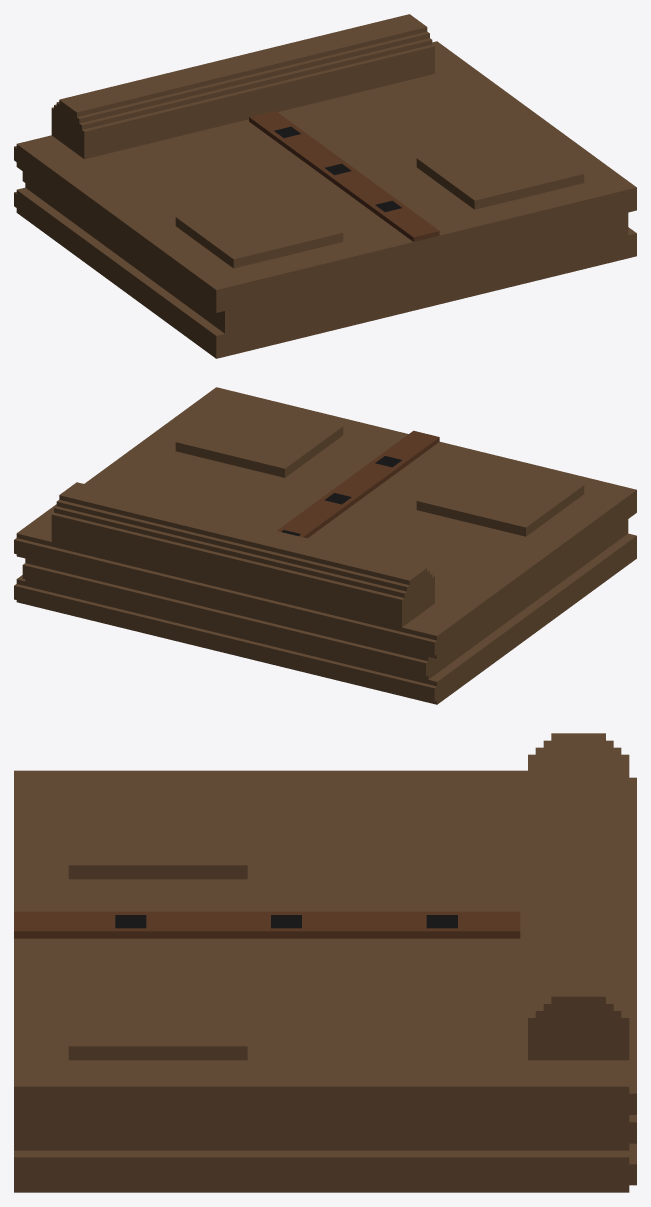
The model's file is coat_fur.glb.
The picture shows the model from 3 angles, top to bottom: view 1: azimuth 30°, elevation 25°; view 2: azimuth 150°, elevation 25°; view 3: azimuth 270°, elevation 25°; orthographic projection. The views are drawn at different scales.
Visible parts, largest first — view 1: coat_fur:compound; view 2: coat_fur:compound; view 3: coat_fur:compound.
Boxes of the visible parts, x1,y1,x2,y2 form: coat_fur:compound: (14, 14, 636, 358); coat_fur:compound: (14, 387, 636, 704); coat_fur:compound: (14, 733, 636, 1192).
Bounding box in the file's own units: 0.384 × 0.096 × 0.32.
